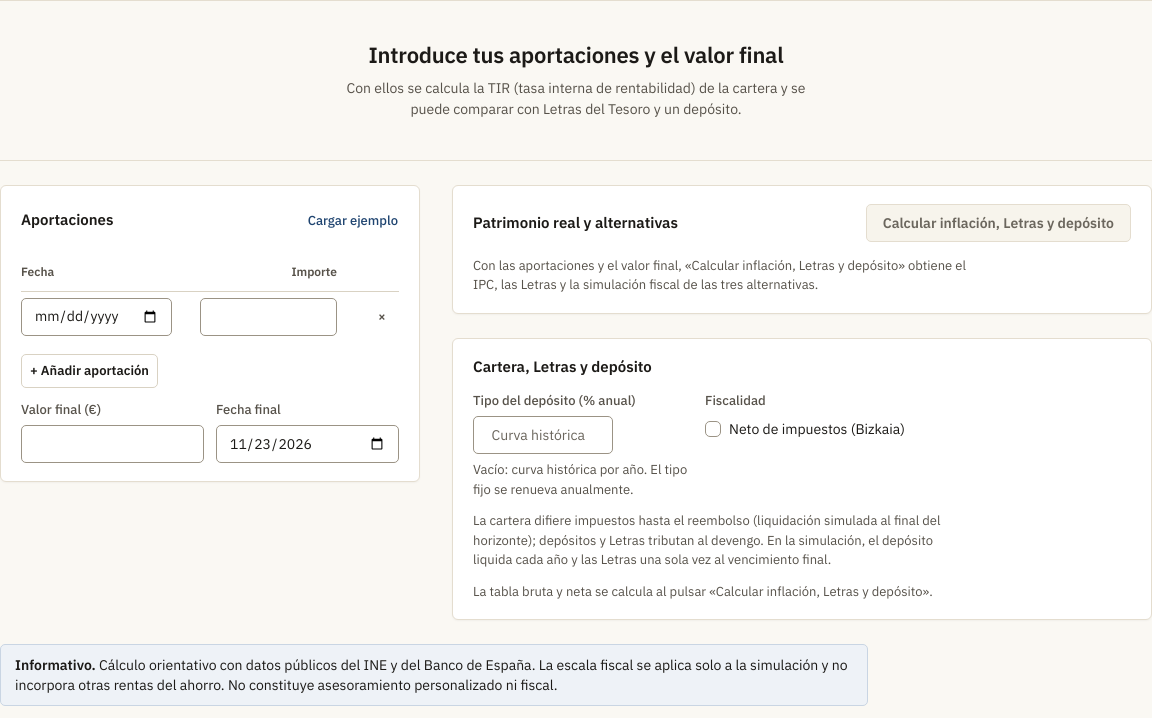
Patrimonial con los datos cambiados › con Neto marcado, toda la franja es neta
Click the button "Cargar ejemplo" at point(353, 221), box [301,204,405,238]
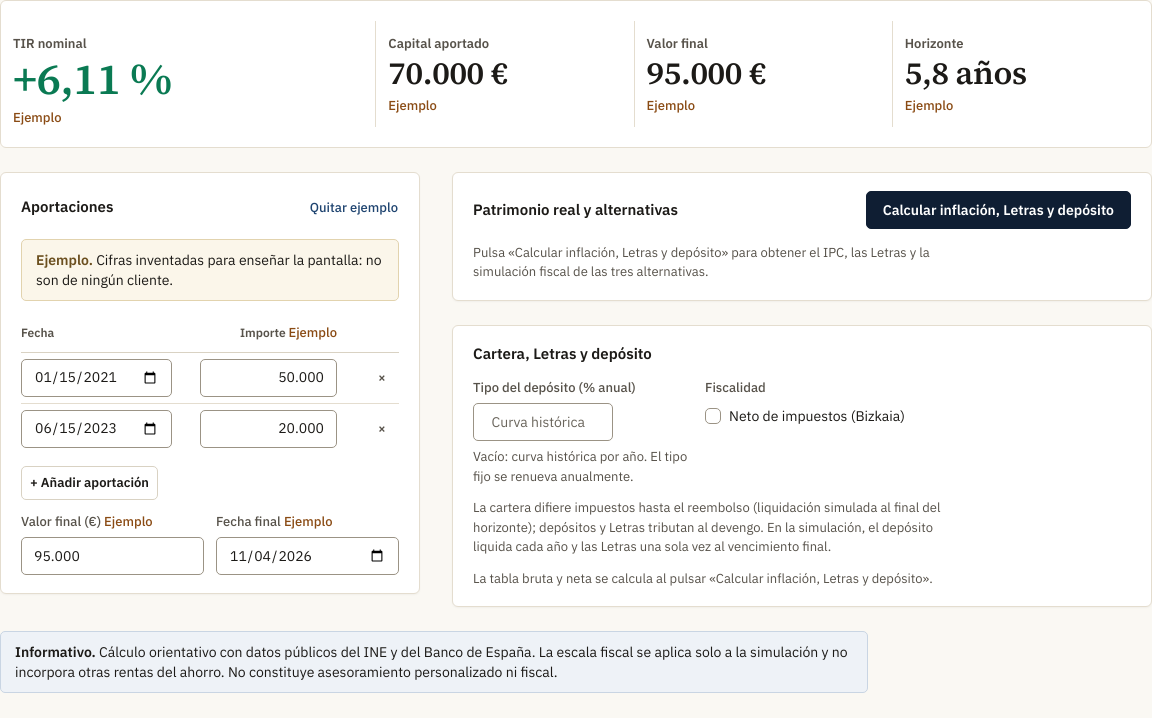
Click the button "Calcular inflación, Letras y depósito" at point(998, 210), box [866,190,1131,228]
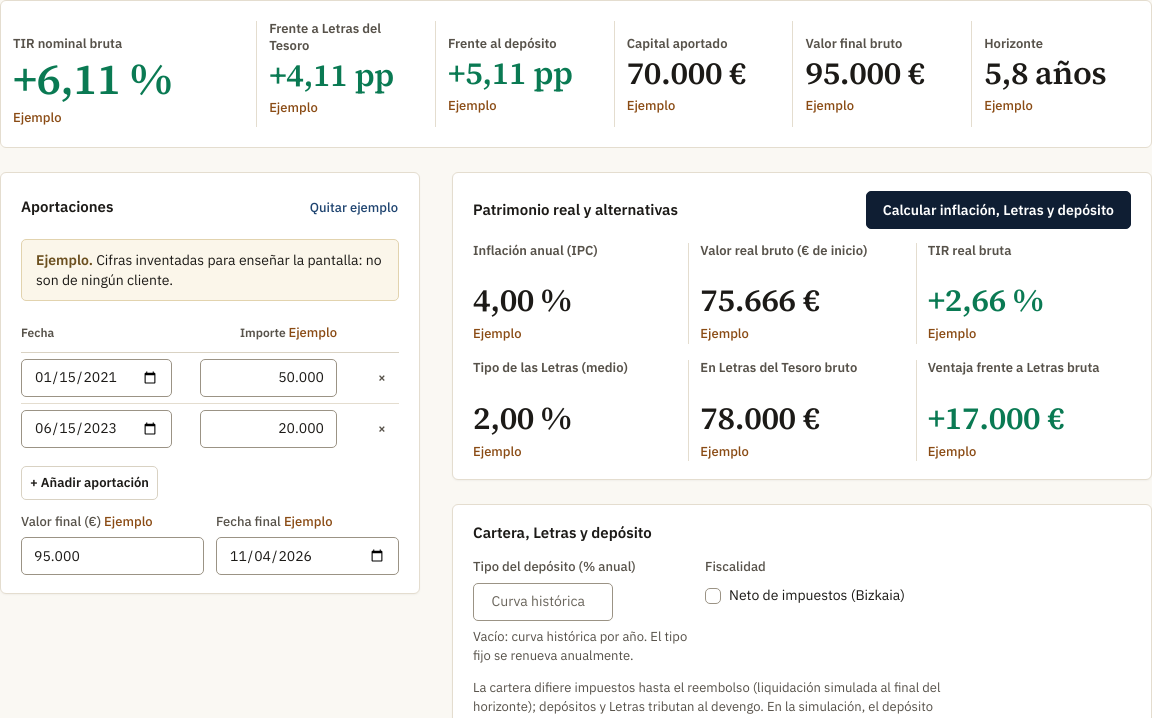
Click the checkbox labelled "Neto de impuestos (Bizkaia)" at point(713, 596), box [705,588,721,604]
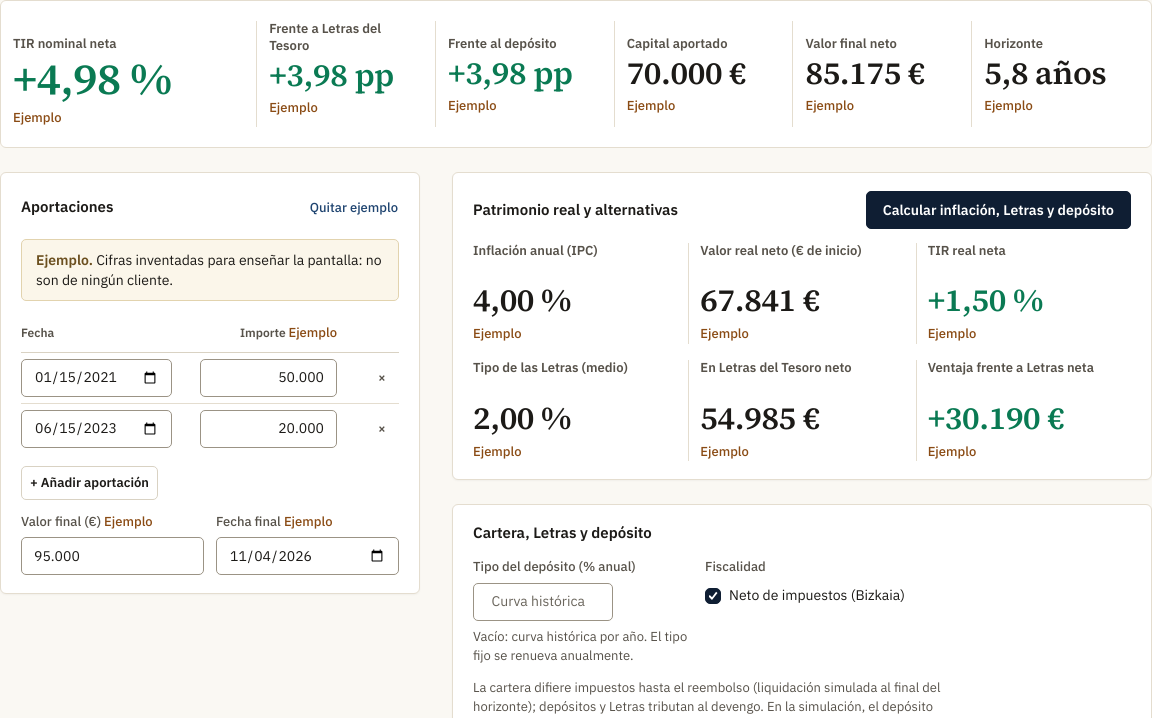
Result: the text "95.000 €" is gone
